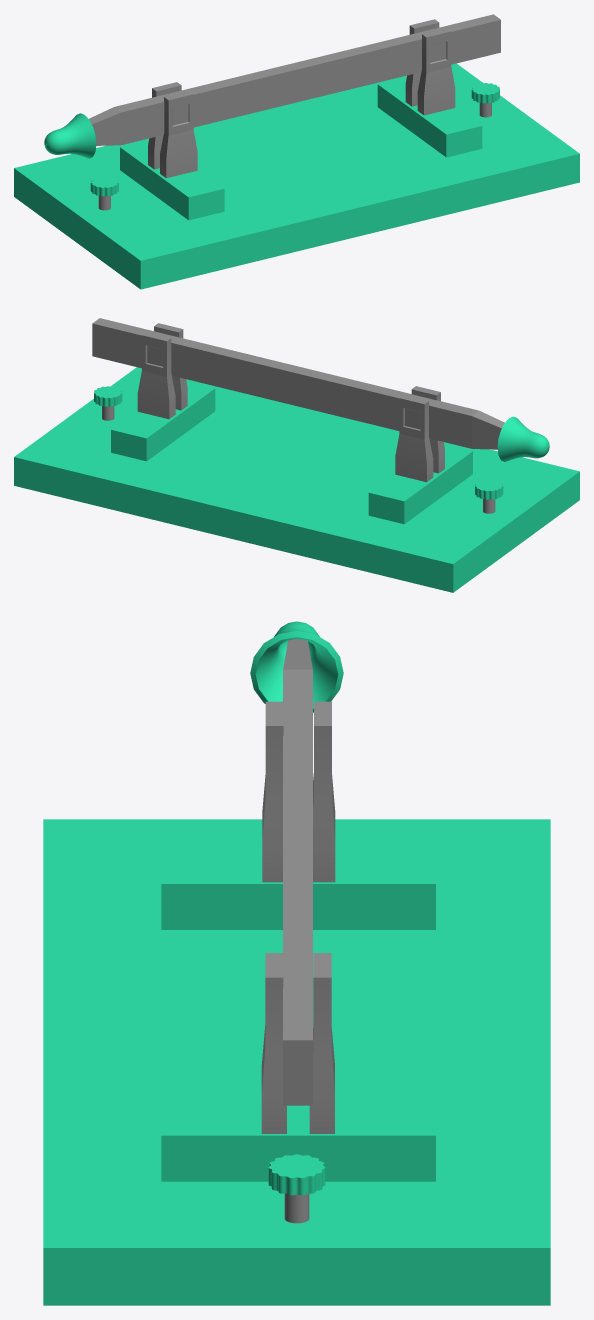
Rendered from switch.FBX.
The picture shows the model from 3 angles, top to bottom: view 1: azimuth 30°, elevation 25°; view 2: azimuth 150°, elevation 25°; view 3: azimuth 270°, elevation 25°; orthographic projection. The views are drawn at different scales.
Visible parts, largest first — view 1: switchTuo, famen; view 2: switchTuo, famen; view 3: switchTuo, famen.
Part boxes in pixels (box(x1,y1,x2,y2)): switchTuo: box(14, 19, 579, 289); famen: box(44, 14, 500, 158); switchTuo: box(14, 323, 579, 592); famen: box(92, 318, 549, 461); switchTuo: box(43, 701, 550, 1305); famen: box(250, 621, 343, 1105).
Size of the model in its own units: 85.71 by 22.34 by 40.
